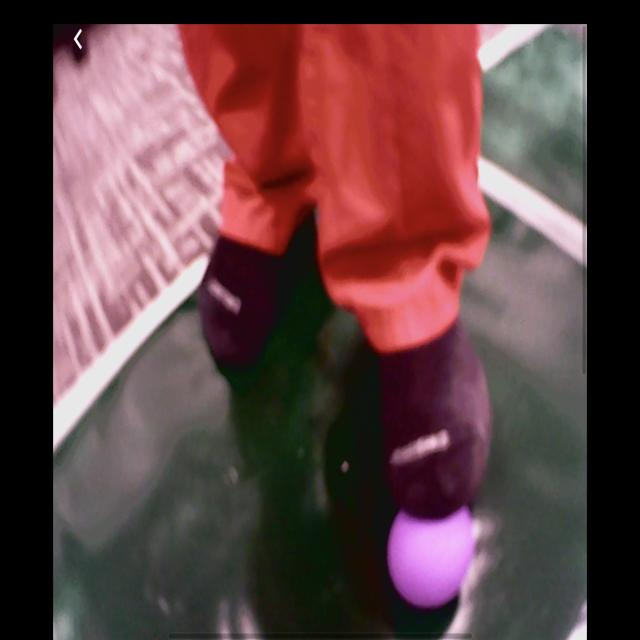ball: (388, 503, 476, 611)
